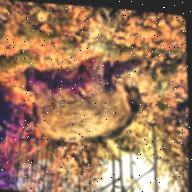boar: (14, 34, 153, 176)
